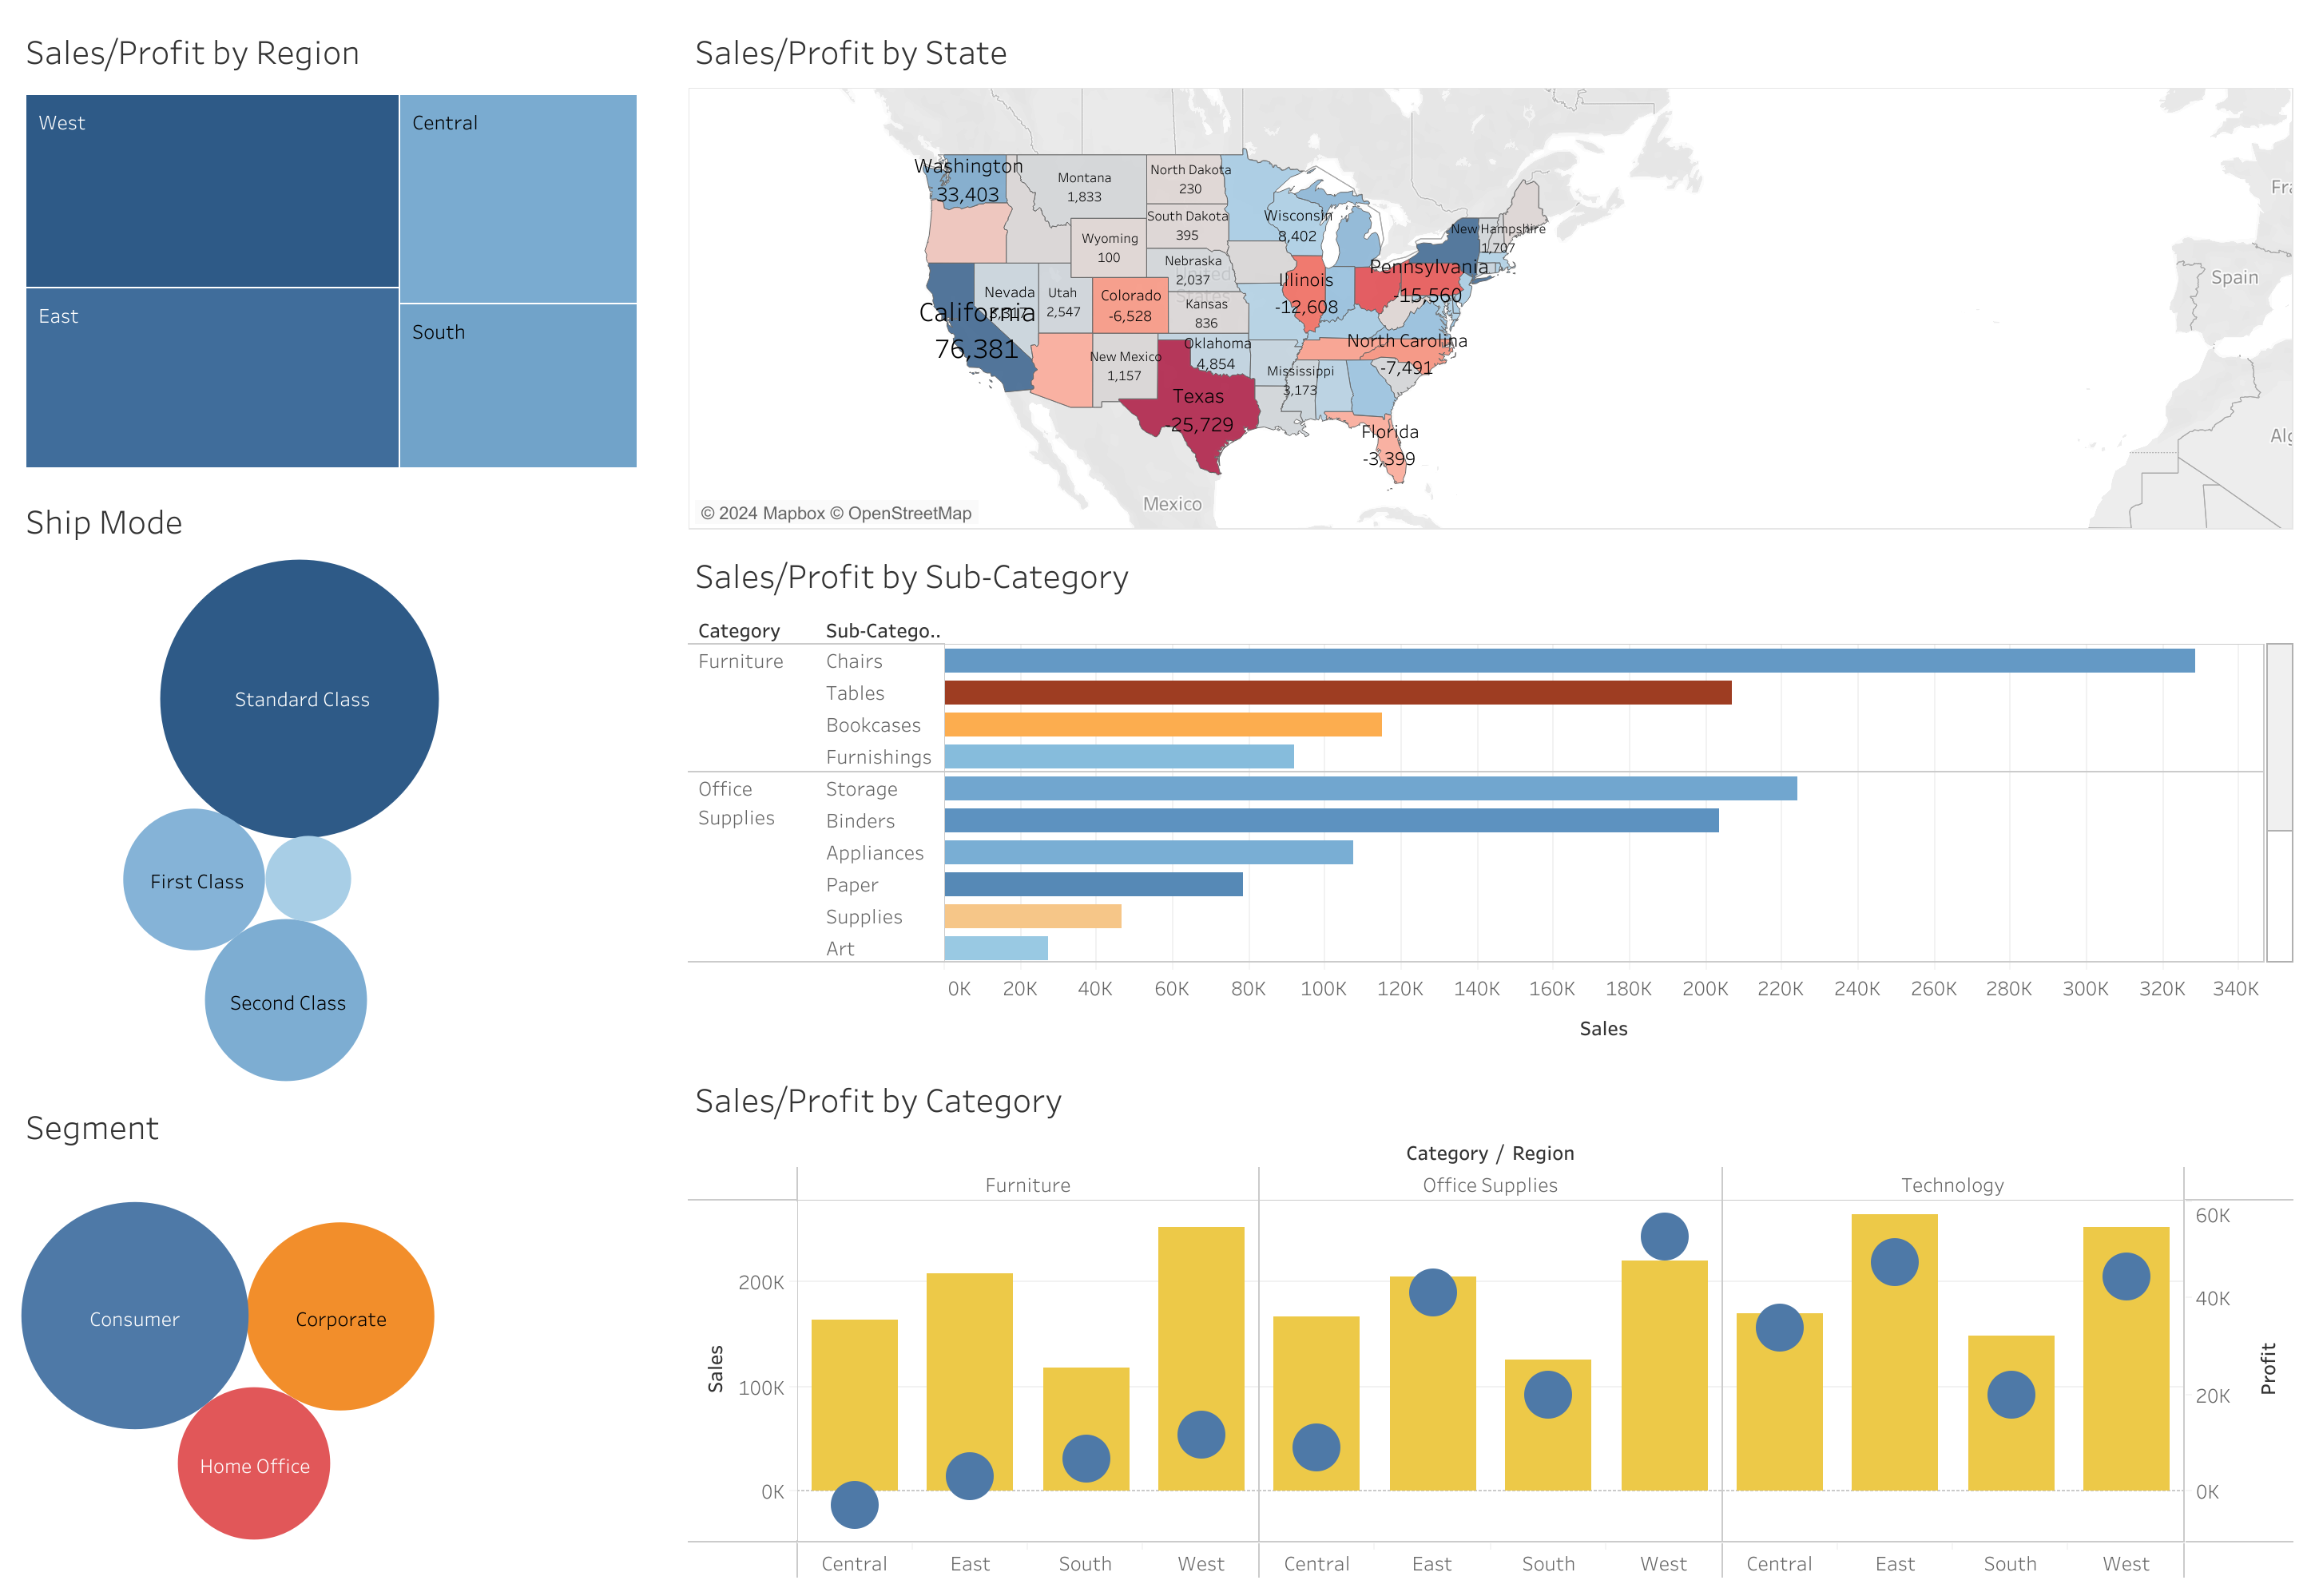

The page's visual inventory and layout, read from the dashboard file:
{"tool":"tableau","page":{"name":"Samplesuperstore EDA","canvas":[1450,1000],"ordinal":0},"visuals":[{"type":"worksheet","title":"Sales/Profit by Region","mark":"Automatic","box":[8,8,419,293.7]},{"type":"worksheet","title":"Sales/Profit by State","mark":"Multipolygon","box":[427,8,1013,328]},{"type":"worksheet","title":"Ship Mode","mark":"Circle","box":[8,301.7,419,379]},{"type":"worksheet","title":"Sales/Profit by Sub-Category","mark":"Automatic","rows":["Category","Sub-Category"],"cols":["Sales"],"box":[427,336,1013,328]},{"type":"worksheet","title":"Sales/Profit by Category","mark":"Automatic","rows":["Sales","Profit"],"cols":["Category","Region"],"box":[427,664,1013,328]},{"type":"worksheet","title":"Segment","mark":"Circle","box":[8,680.7,419,311.3]}]}

Visuals, with their boxes in screenshot pixels (x1, y1, x2, y2), scaled from the page's 1450x1000 canvas onto the 2315x1596 screenshot:
"Sales/Profit by Region" worksheet: l=13, t=13, r=681, b=482
"Sales/Profit by State" worksheet (Multipolygon marks): l=681, t=13, r=2299, b=536
"Ship Mode" worksheet (Circle marks): l=13, t=482, r=681, b=1086
"Sales/Profit by Sub-Category" worksheet: l=681, t=536, r=2299, b=1060
"Sales/Profit by Category" worksheet: l=681, t=1060, r=2299, b=1583
"Segment" worksheet (Circle marks): l=13, t=1086, r=681, b=1583
